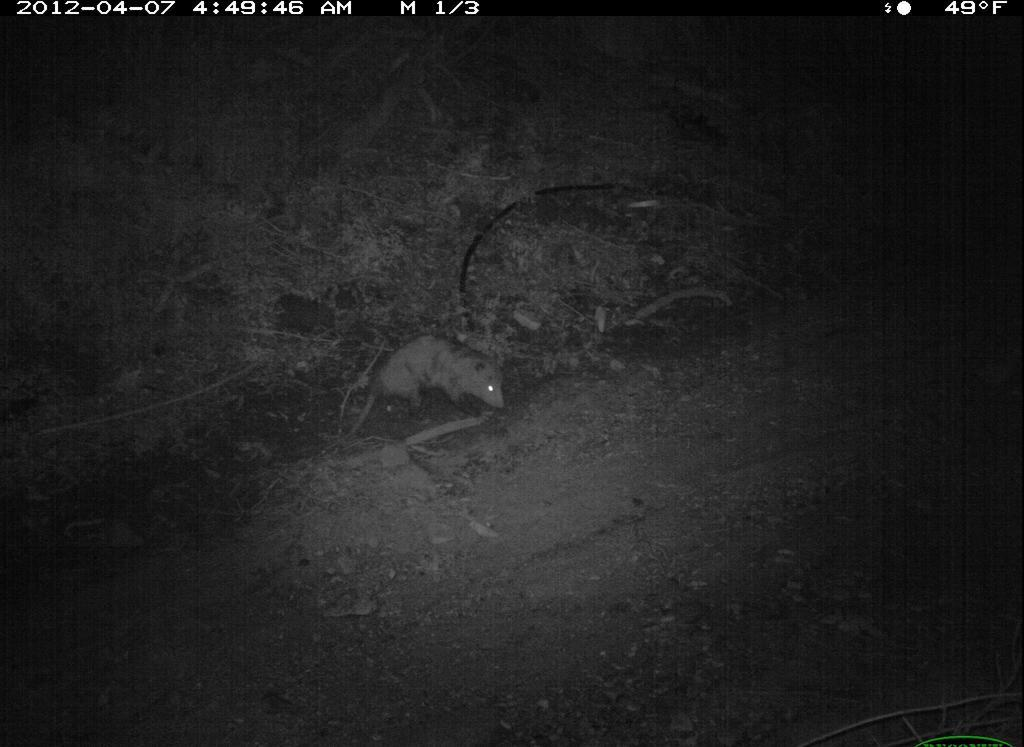opossum: (350, 329, 521, 454)
